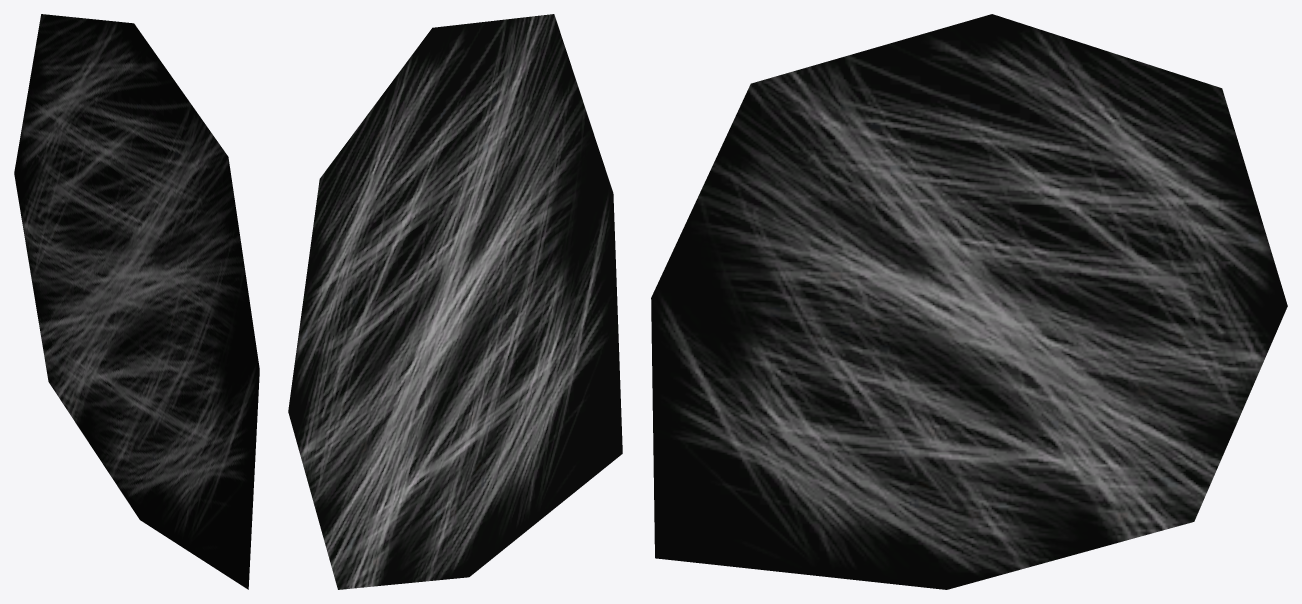
The model's file is DWARF_PALACE_SPIDERWEB_COVERS10.fbx.
3 views of the same model, side by side, from view 1: azimuth 30°, elevation 25°; view 2: azimuth 150°, elevation 25°; view 3: azimuth 270°, elevation 25° (orthographic). The views are drawn at different scales.
Parts seen in each view (by area): view 1: DWARF_PALACE_SPIDERWEB_COVERS10; view 2: DWARF_PALACE_SPIDERWEB_COVERS10; view 3: DWARF_PALACE_SPIDERWEB_COVERS10.
Part boxes in pixels (x1,y1,x2,y2): DWARF_PALACE_SPIDERWEB_COVERS10: (14, 14, 259, 589); DWARF_PALACE_SPIDERWEB_COVERS10: (288, 14, 622, 589); DWARF_PALACE_SPIDERWEB_COVERS10: (651, 14, 1287, 589).
Size of the model in its own units: 1531 by 27287 by 26979.
1 material, 1 textured.
